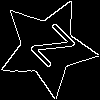Z: (22, 22, 76, 76)
